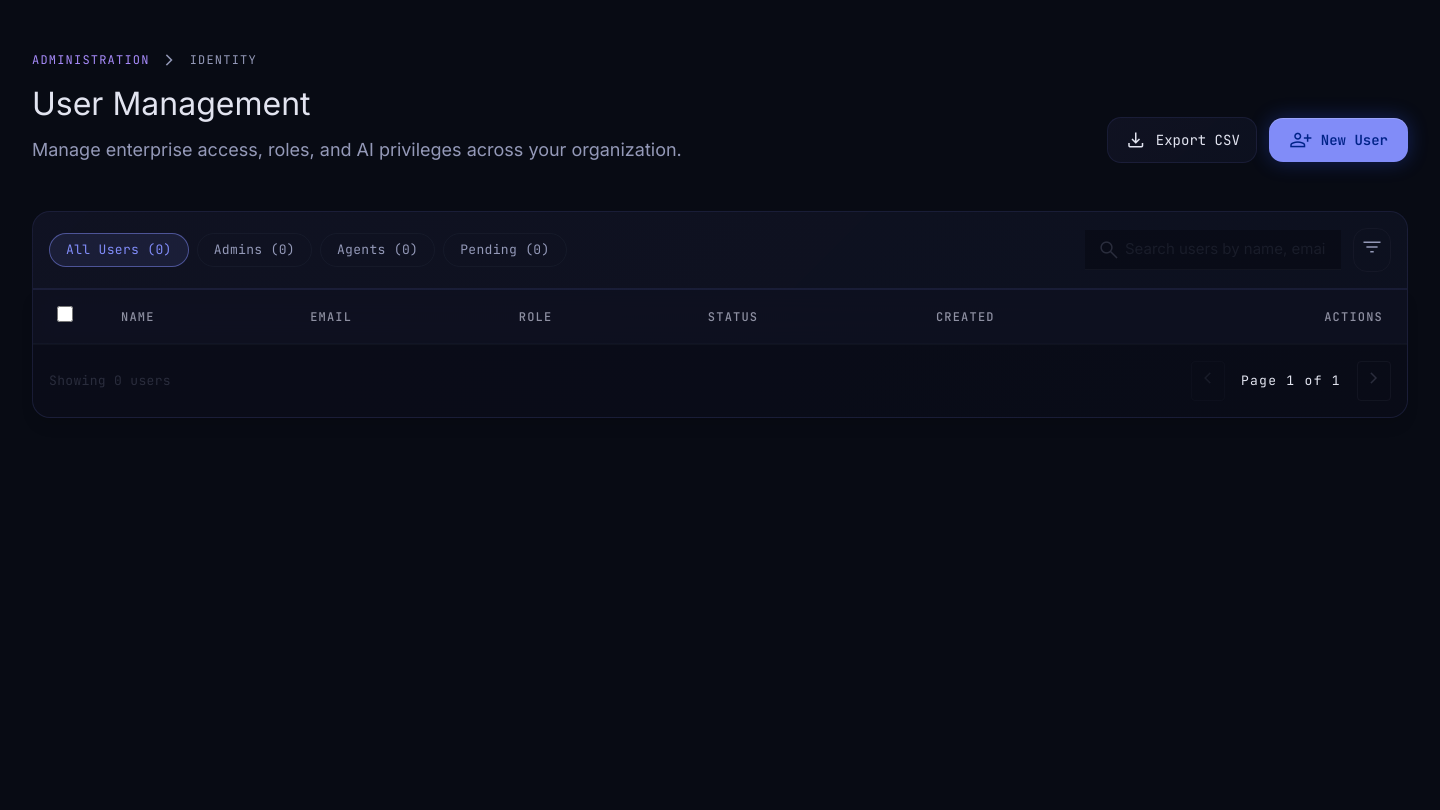
Test: UsersPage › should open the create user dialog when clicking New User
This screenshot has width=1440, height=810.
Click the button "New User" at (1338, 140), box x1=1269 y1=118 x2=1408 y2=162
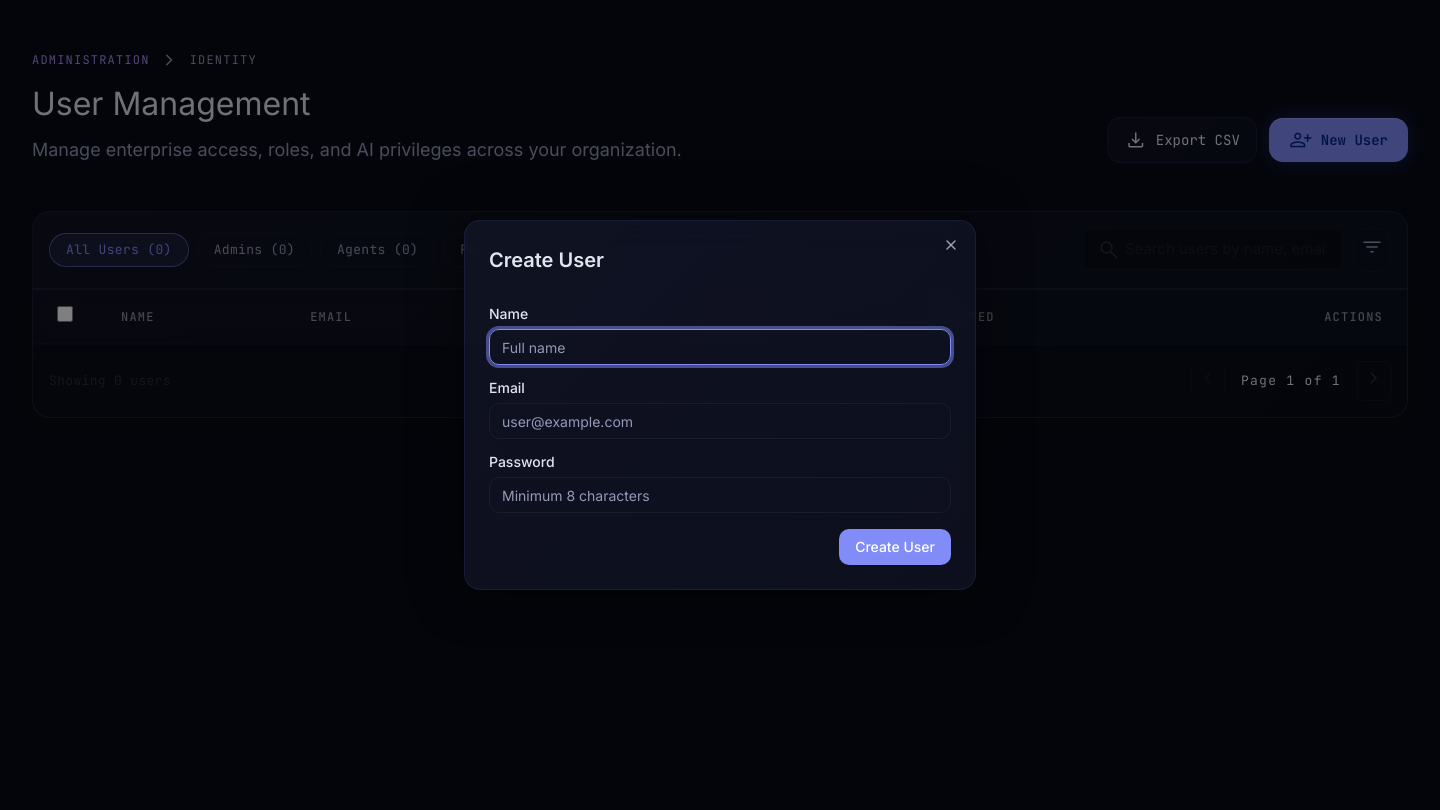
expect the dialog is shown: met, box x1=464 y1=220 x2=976 y2=590
expect the heading "Create User" is shown: met, box x1=489 y1=248 x2=604 y2=272
